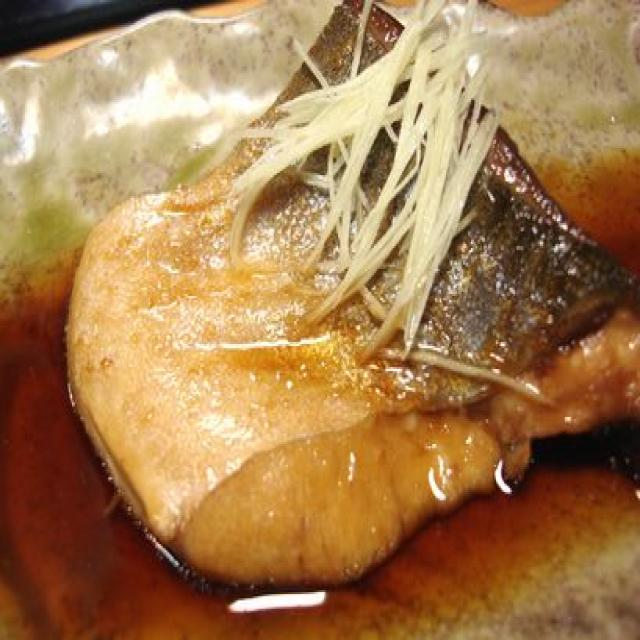熟制海鲜: (40, 0, 640, 640)
